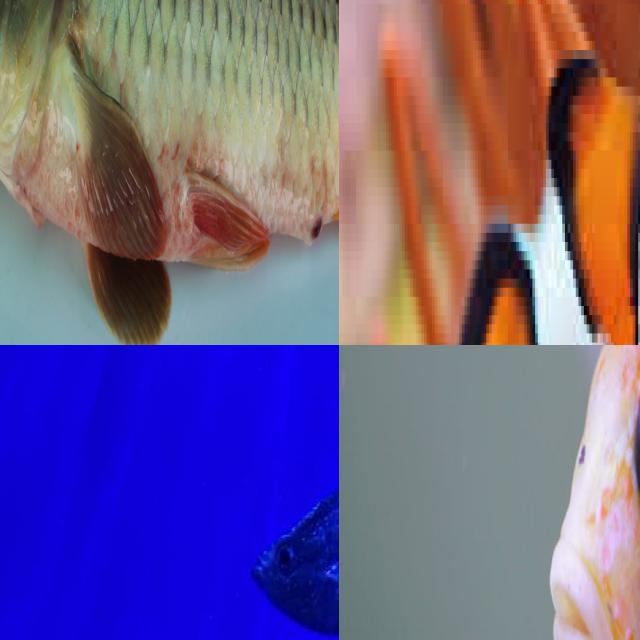fish: (0, 0, 339, 345), (356, 22, 640, 345)
